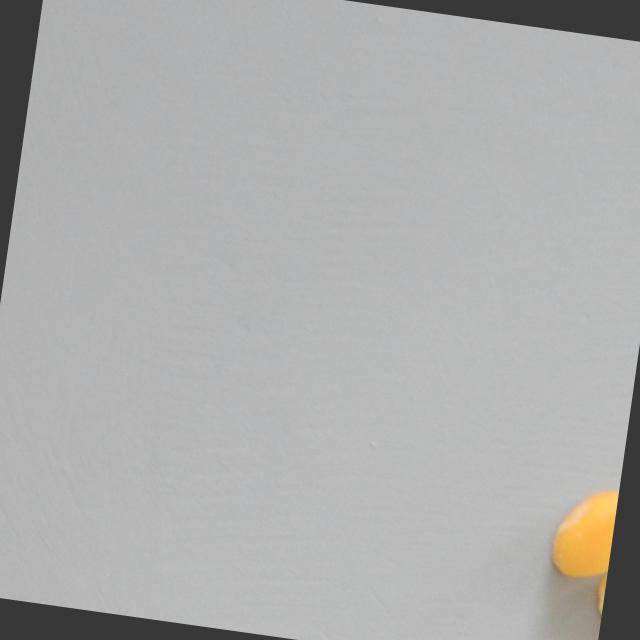estandar: (538, 488, 618, 576)
